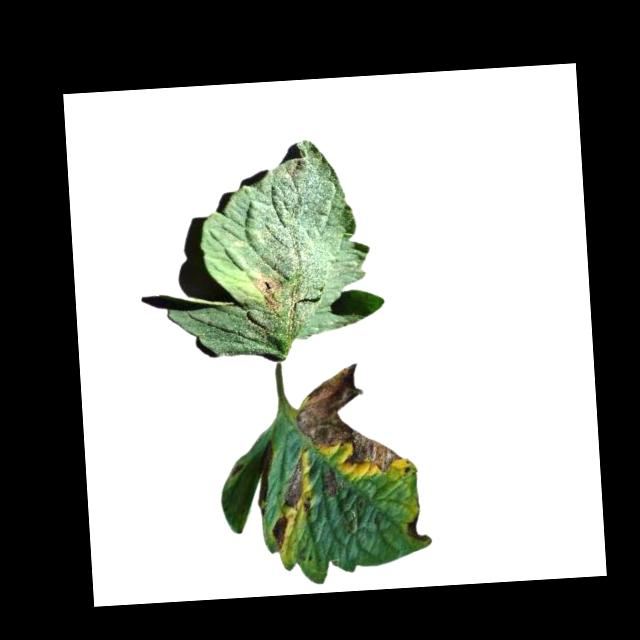Early_blight: (298, 359, 404, 476), (280, 457, 306, 509), (250, 275, 282, 313), (403, 515, 431, 546), (270, 516, 290, 554), (322, 469, 340, 504)
